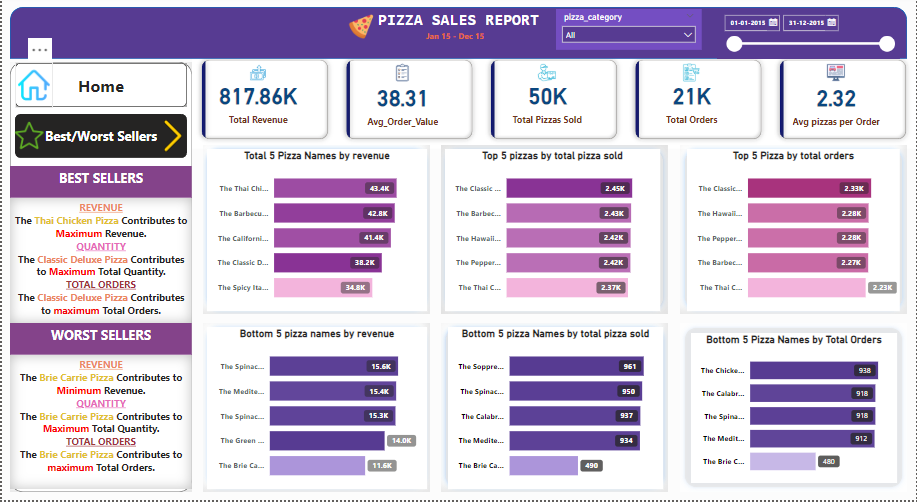

This screenshot's page, from the dashboard's own definition file:
{"tool":"powerbi","page":{"name":"Best/Worst Sellers","canvas":[1500,820],"ordinal":1},"visuals":[{"type":"shape","box":[13.1,101.7,298.5,705.2],"z":0},{"type":"cardVisual","fields":{"Data":["pizza_sales.Total Revenue","pizza_sales.Avg_Order_Value","pizza_sales.Total Pizzas Sold","pizza_sales.Total Orders","pizza_sales.Avg pizzas per Order"]},"box":[311.6,82,1189,162.4],"z":1000},{"type":"shape","box":[13.1,11.5,1471.1,85],"z":2000},{"type":"textbox","box":[588.8,11.5,319.8,47.6],"z":3000},{"type":"textbox","box":[690.4,44.3,114.8,36.1],"z":4000},{"type":"image","box":[562.5,18,52.5,50.8],"z":5000},{"type":"shape","box":[329.6,237.8,372.3,277.2],"z":6000},{"type":"shape","box":[1111.9,237.8,372.3,277.2],"z":7000},{"type":"shape","box":[720,237.8,372.3,277.2],"z":8000},{"type":"shape","box":[329.6,529.7,372.3,277.2],"z":9000},{"type":"shape","box":[720,529.7,372.3,277.2],"z":10000},{"type":"shape","box":[1111.9,529.7,372.3,277.2],"z":11000},{"type":"clusteredBarChart","title":"Total 5 Pizza Names by revenue","fields":{"Category":["pizza_sales.pizza_name"],"Y":["pizza_sales.Total Revenue"]},"box":[336.2,244.4,360.8,265.7],"z":12000},{"type":"clusteredBarChart","title":"Top 5 pizzas by total pizza sold","fields":{"Category":["pizza_sales.pizza_name"],"Y":["pizza_sales.Total Pizzas Sold"]},"box":[726.5,244.4,352.6,265.7],"z":13000},{"type":"clusteredBarChart","title":"Bottom 5 pizza names by revenue","fields":{"Category":["pizza_sales.pizza_name"],"Y":["pizza_sales.Total Revenue"]},"box":[336.2,536.3,360.8,265.7],"z":14000},{"type":"clusteredBarChart","title":"Bottom 5 pizza Names by total pizza sold","fields":{"Category":["pizza_sales.pizza_name"],"Y":["pizza_sales.Total Pizzas Sold"]},"box":[731.4,536.3,352.6,265.7],"z":15000},{"type":"clusteredBarChart","title":"Top 5 Pizza by total orders","fields":{"Category":["pizza_sales.pizza_name"],"Y":["pizza_sales.Total Orders"]},"box":[1123.4,244.4,349.3,265.7],"z":16000},{"type":"clusteredBarChart","title":"Bottom 5 Pizza Names by Total Orders","fields":{"Category":["pizza_sales.pizza_name"],"Y":["pizza_sales.Total Orders"]},"box":[1130,546.1,337.8,246],"z":17000},{"type":"textbox","box":[13.1,529.7,298.5,52.5],"z":18000},{"type":"textbox","box":[13.1,272.2,298.5,52.5],"z":19000},{"type":"textbox","box":[13.1,324.7,298.5,205],"z":20000},{"type":"textbox","box":[13.1,582.2,298.5,219.8],"z":21000},{"type":"pageNavigator","box":[21.3,187,282.1,72.2],"z":22000},{"type":"pageNavigator","box":[21.3,103.3,282.1,72.2],"z":22001},{"type":"image","box":[249.3,183.7,62.3,78.7],"z":22002},{"type":"image","box":[13.1,193.5,64,57.4],"z":22003},{"type":"image","box":[21.3,101.7,62.3,75.4],"z":22004},{"type":"slicer","fields":{"Values":["pizza_sales.pizza_category"]},"box":[908.6,14.8,239.4,67.2],"z":22005},{"type":"slicer","fields":{"Values":["pizza_sales.order_date"]},"box":[1172.6,14.8,300.1,82],"z":22006}]}

Visuals, with their boxes in screenshot pixels (x1, y1, x2, y2), scaled from the page's 1500x820 canvas onto the 917x502 screenshot:
shape: (8, 62, 190, 494)
cardVisual - pizza_sales.Total Revenue x pizza_sales.Avg_Order_Value: (190, 50, 916, 150)
shape: (8, 7, 907, 59)
textbox: (360, 7, 555, 36)
textbox: (422, 27, 492, 49)
image: (344, 11, 376, 42)
shape: (201, 146, 429, 315)
shape: (680, 146, 907, 315)
shape: (440, 146, 668, 315)
shape: (201, 324, 429, 494)
shape: (440, 324, 668, 494)
shape: (680, 324, 907, 494)
"Total 5 Pizza Names by revenue" clusteredBarChart: (206, 150, 426, 312)
"Top 5 pizzas by total pizza sold" clusteredBarChart: (444, 150, 660, 312)
"Bottom 5 pizza names by revenue" clusteredBarChart: (206, 328, 426, 491)
"Bottom 5 pizza Names by total pizza sold" clusteredBarChart: (447, 328, 663, 491)
"Top 5 Pizza by total orders" clusteredBarChart: (687, 150, 900, 312)
"Bottom 5 Pizza Names by Total Orders" clusteredBarChart: (691, 334, 897, 485)
textbox: (8, 324, 190, 356)
textbox: (8, 167, 190, 199)
textbox: (8, 199, 190, 324)
textbox: (8, 356, 190, 491)
pageNavigator: (13, 114, 185, 159)
pageNavigator: (13, 63, 185, 107)
image: (152, 112, 190, 161)
image: (8, 118, 47, 154)
image: (13, 62, 51, 108)
slicer - pizza_sales.pizza_category: (555, 9, 702, 50)
slicer - pizza_sales.order_date: (717, 9, 900, 59)
